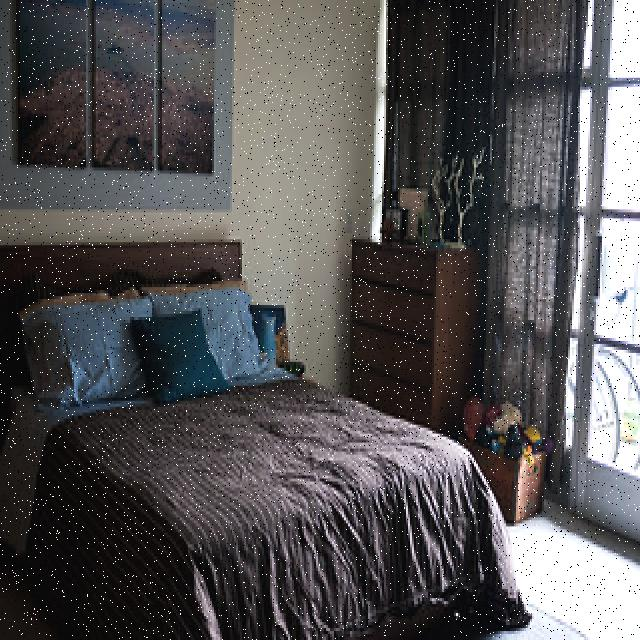bed: (0, 254, 484, 640)
